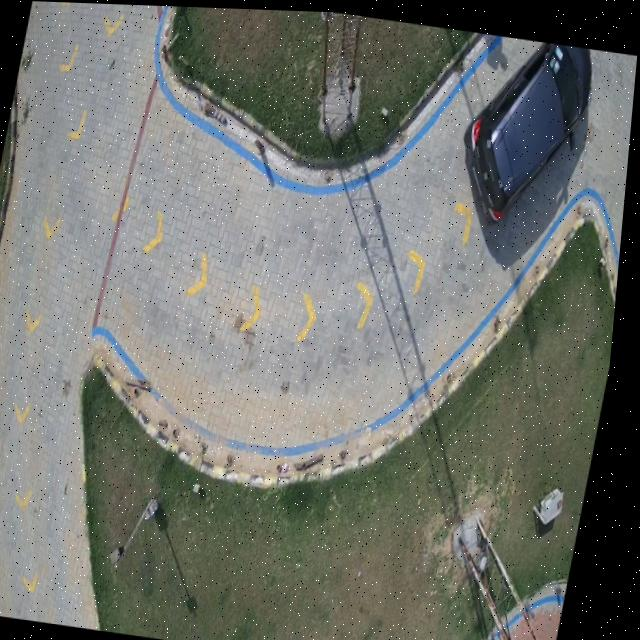car: (466, 39, 595, 223)
